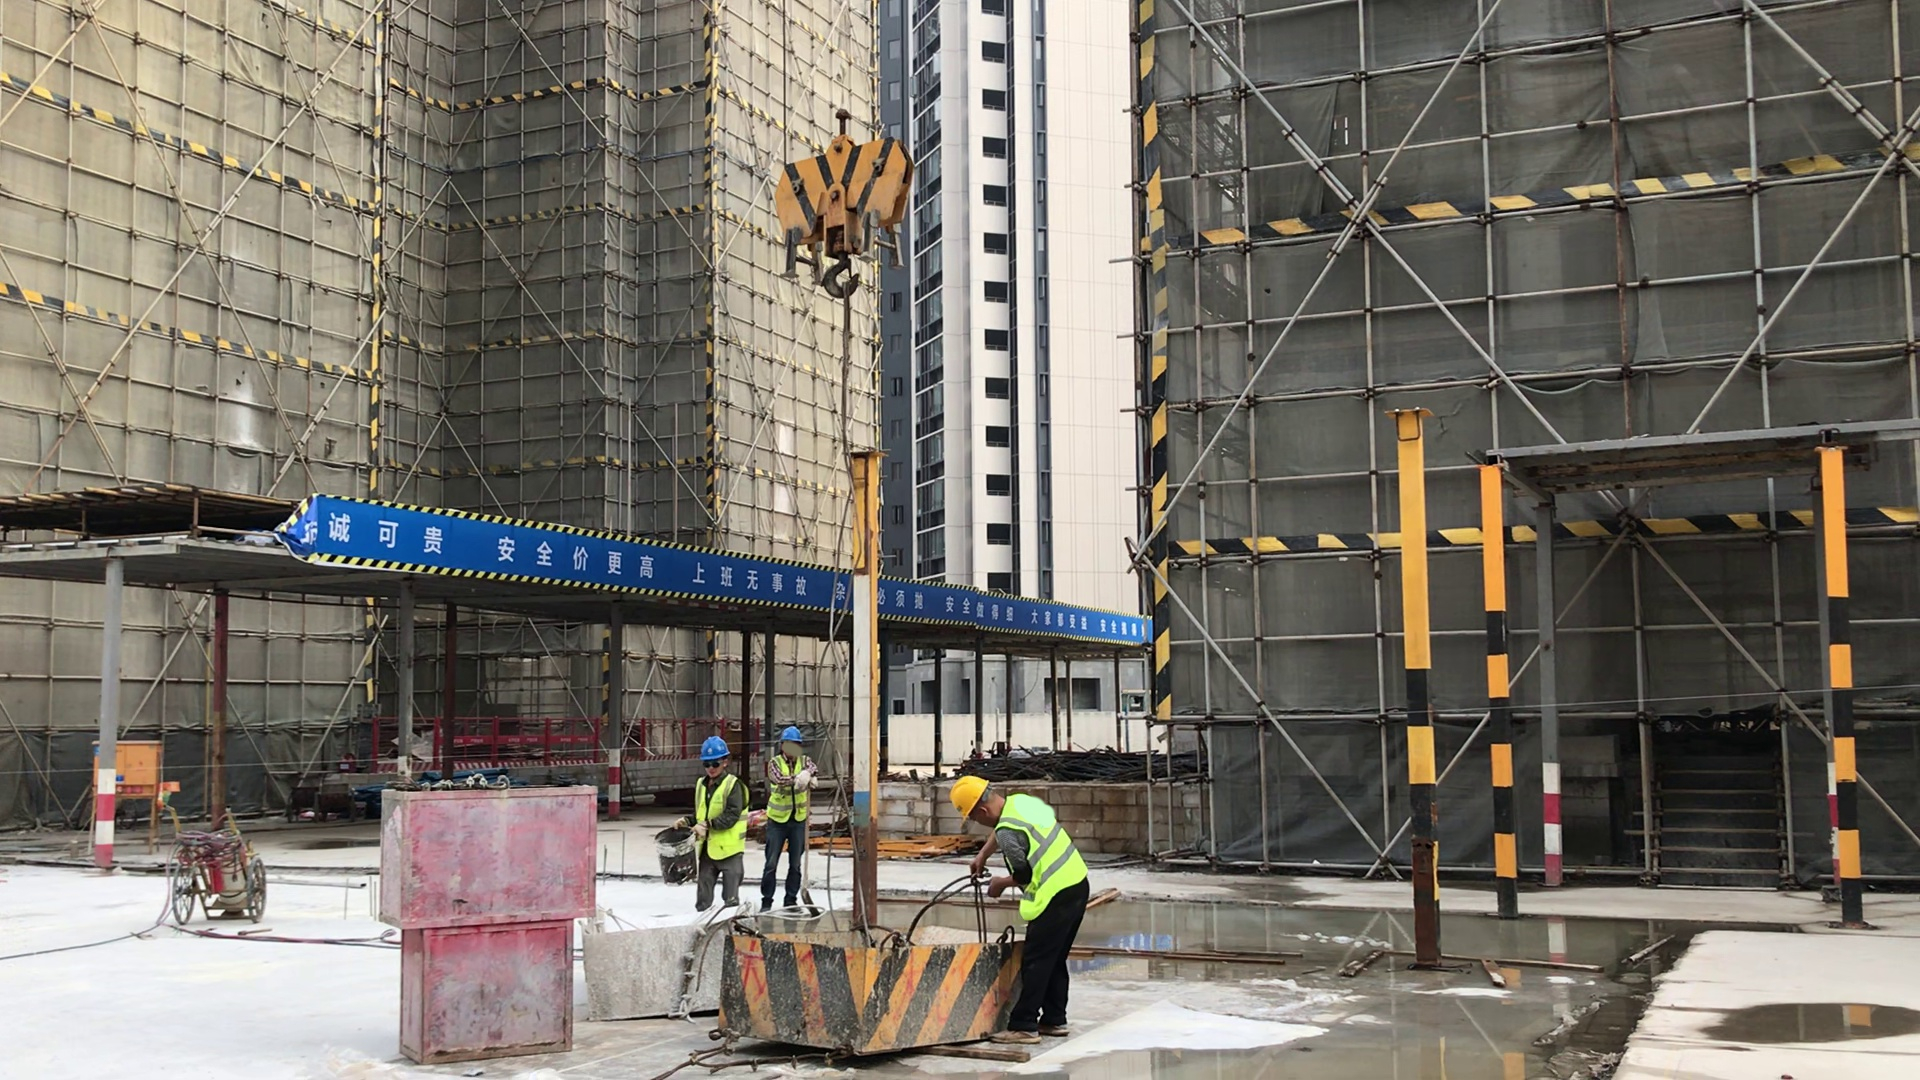ebox: (117, 732, 166, 854)
fence: (322, 494, 825, 615), (887, 582, 1147, 649), (462, 713, 599, 767), (634, 715, 698, 764)
handcart: (159, 804, 273, 928)
helmet: (949, 778, 991, 821), (696, 738, 731, 762), (777, 725, 805, 744)
hook: (767, 108, 917, 306)
hopper: (722, 912, 993, 1063), (581, 911, 719, 1028)
person: (946, 775, 1096, 1049), (679, 736, 752, 910), (761, 727, 823, 918)
vest: (990, 792, 1091, 921), (692, 774, 750, 862), (763, 753, 811, 825)
